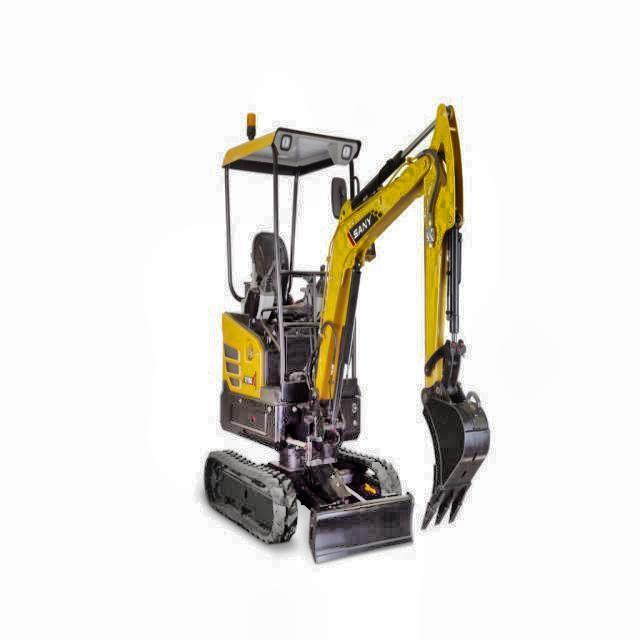excavator: (201, 94, 504, 566)
